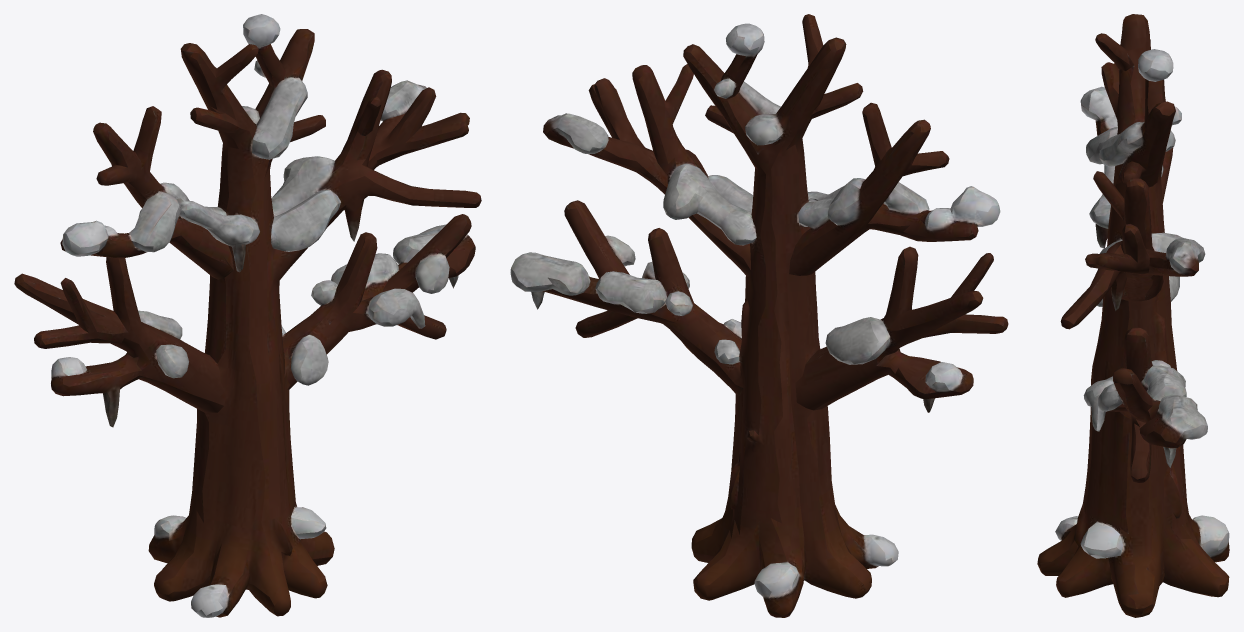
Rendered from a-leafless-tree-covered-with-sno-c3ba8b.glb.
3 renders of one model, left to right at view 1: azimuth 30°, elevation 25°; view 2: azimuth 150°, elevation 25°; view 3: azimuth 270°, elevation 25°, orthographic. The views are drawn at different scales.
Visible parts, largest first — view 1: geometry_0; view 2: geometry_0; view 3: geometry_0.
Boxes of the visible parts, box(x1,y1,x2,y2) form: geometry_0: box(14, 14, 481, 617); geometry_0: box(510, 14, 1008, 617); geometry_0: box(1037, 14, 1229, 617).
Size of the model in its own units: 0.8804 by 1 by 0.3221.
1 material, 1 textured.
